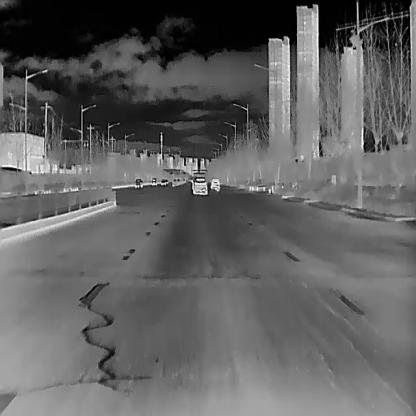car: (192, 176, 206, 194), (209, 177, 220, 192), (133, 178, 143, 188), (159, 178, 166, 184), (151, 176, 156, 184)
